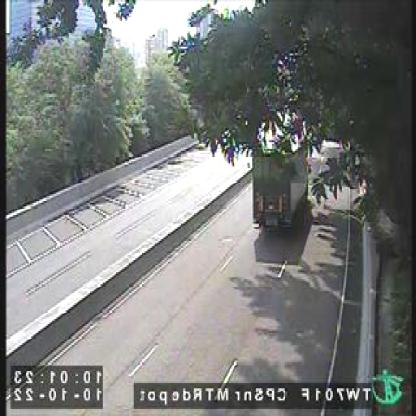Truck: (254, 152, 309, 232)
